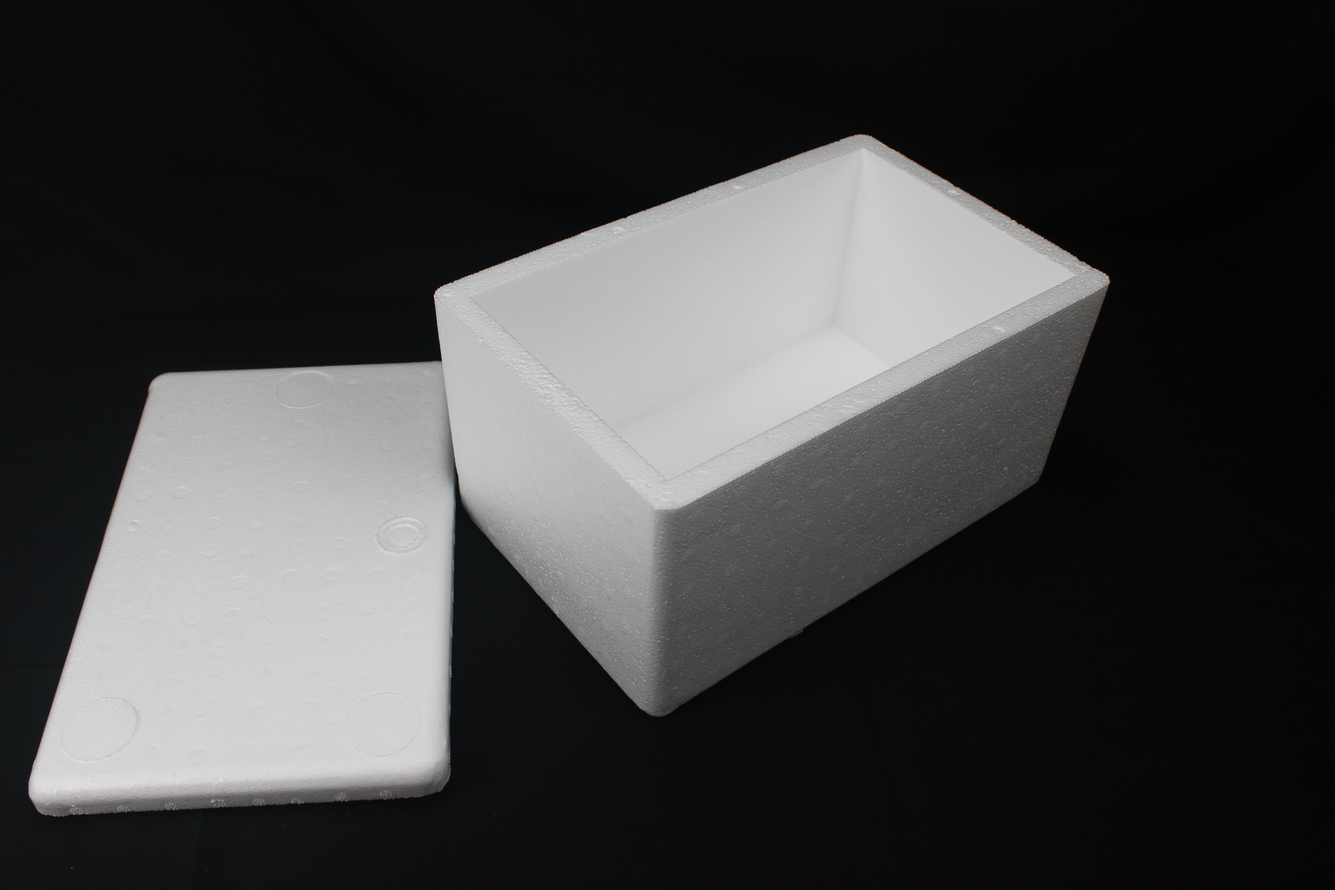泡沫箱: (435, 137, 1107, 713)
